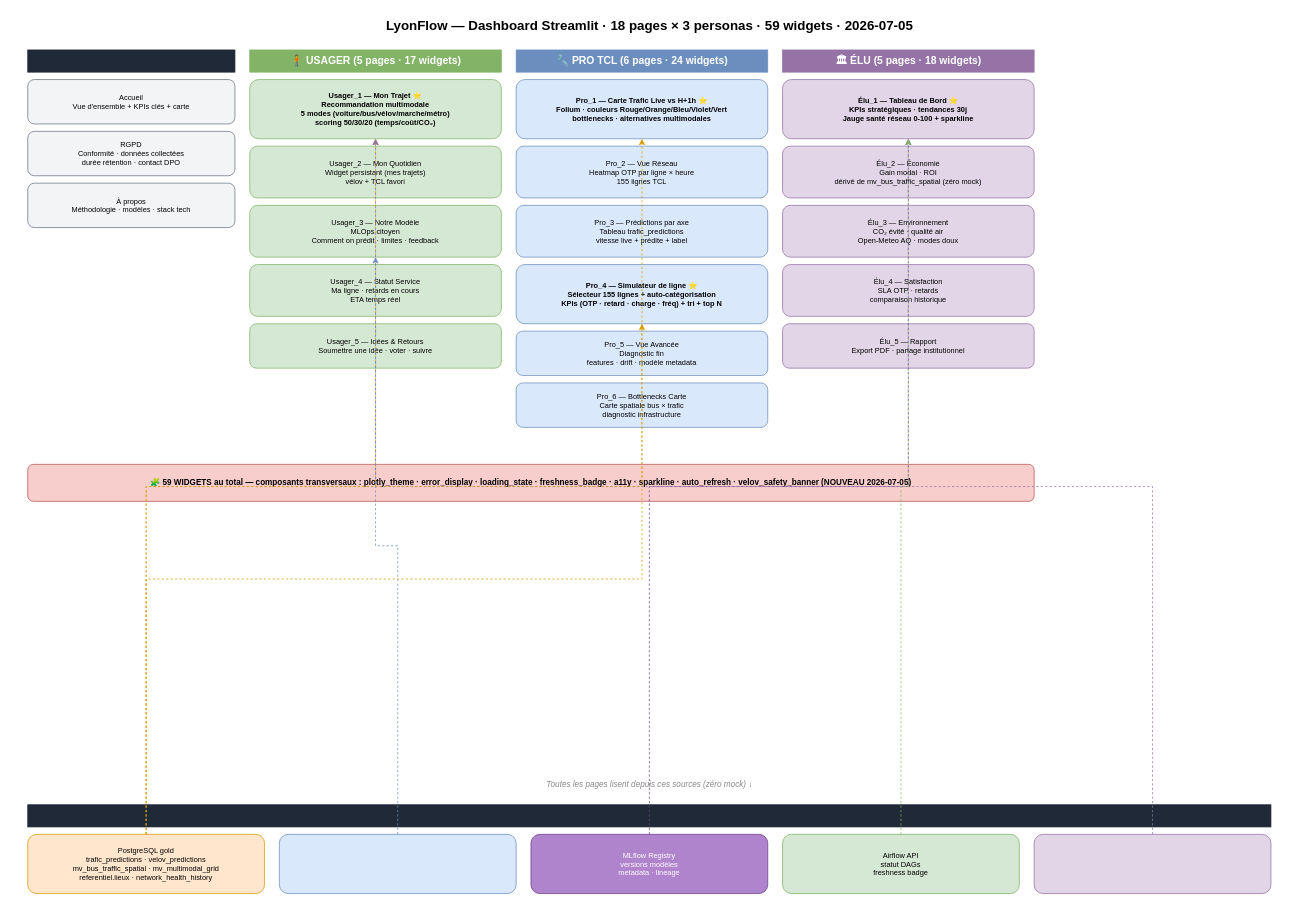
Some shapes in this 1298 by 907 pixel diagram are drawn without their labels. Each missing label, with the centre of its shape:
FastAPI /predict · /route /health · /metrics: the point at 397,864
OSM + pgRouting osm.route_car() itinéraires voiture: the point at 1152,864
🏠 TRANSVERSAL: the point at 131,60
📊 SOURCES DE DONNÉES (toutes les pages): the point at 649,815
